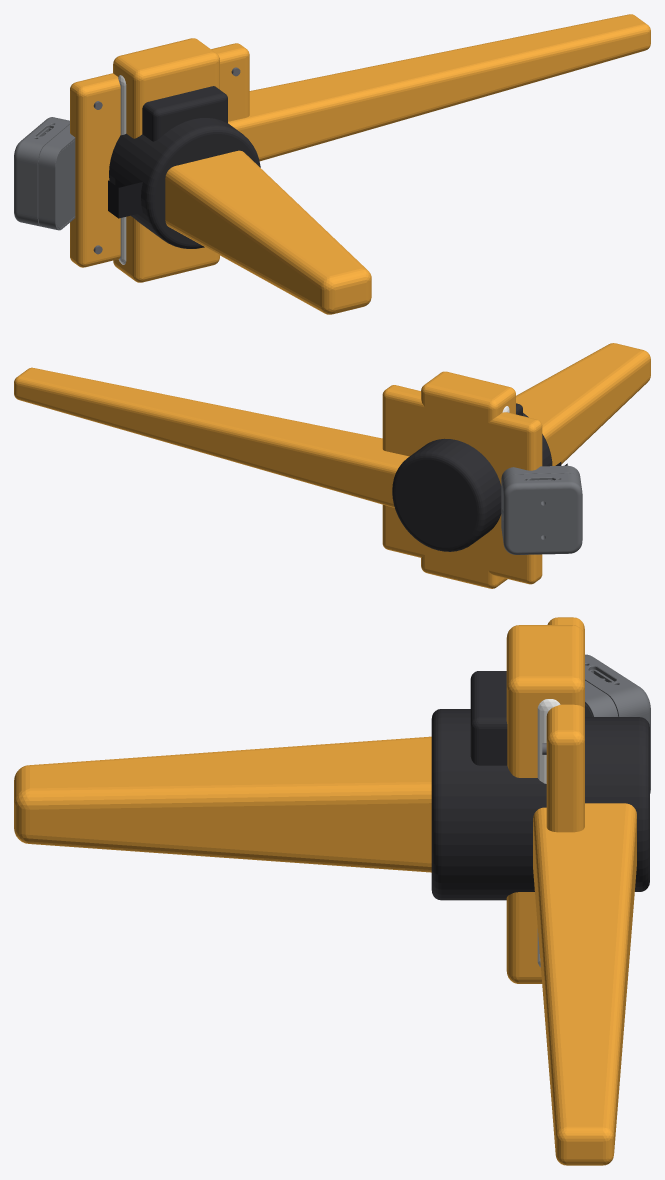
Rendered from arm.glb.
3 renders of one model, top to bottom at view 1: azimuth 30°, elevation 25°; view 2: azimuth 150°, elevation 25°; view 3: azimuth 270°, elevation 25°, orthographic. The views are drawn at different scales.
Visible parts, largest first — view 1: b4, b3, b1, b9, b2, b7; view 2: b4, b3, b1, b9; view 3: b3, b4, b1, b9, b2.
Part boxes in pixels (left/top/right/bottom): b4: left=228, top=14, right=650, bottom=161; b3: left=165, top=150, right=371, bottom=314; b1: left=70, top=43, right=260, bottom=267; b9: left=14, top=38, right=219, bottom=282; b2: left=142, top=86, right=227, bottom=141; b7: left=108, top=178, right=142, bottom=218; b4: left=14, top=367, right=409, bottom=507; b3: left=392, top=343, right=650, bottom=551; b1: left=382, top=385, right=552, bottom=584; b9: left=421, top=371, right=582, bottom=588; b3: left=14, top=717, right=649, bottom=891; b4: left=533, top=803, right=636, bottom=1165; b1: left=431, top=617, right=584, bottom=900; b9: left=506, top=625, right=650, bottom=983; b2: left=470, top=671, right=507, bottom=765.
Size of the model in its own units: 0.3433 by 0.1105 by 0.2081.
